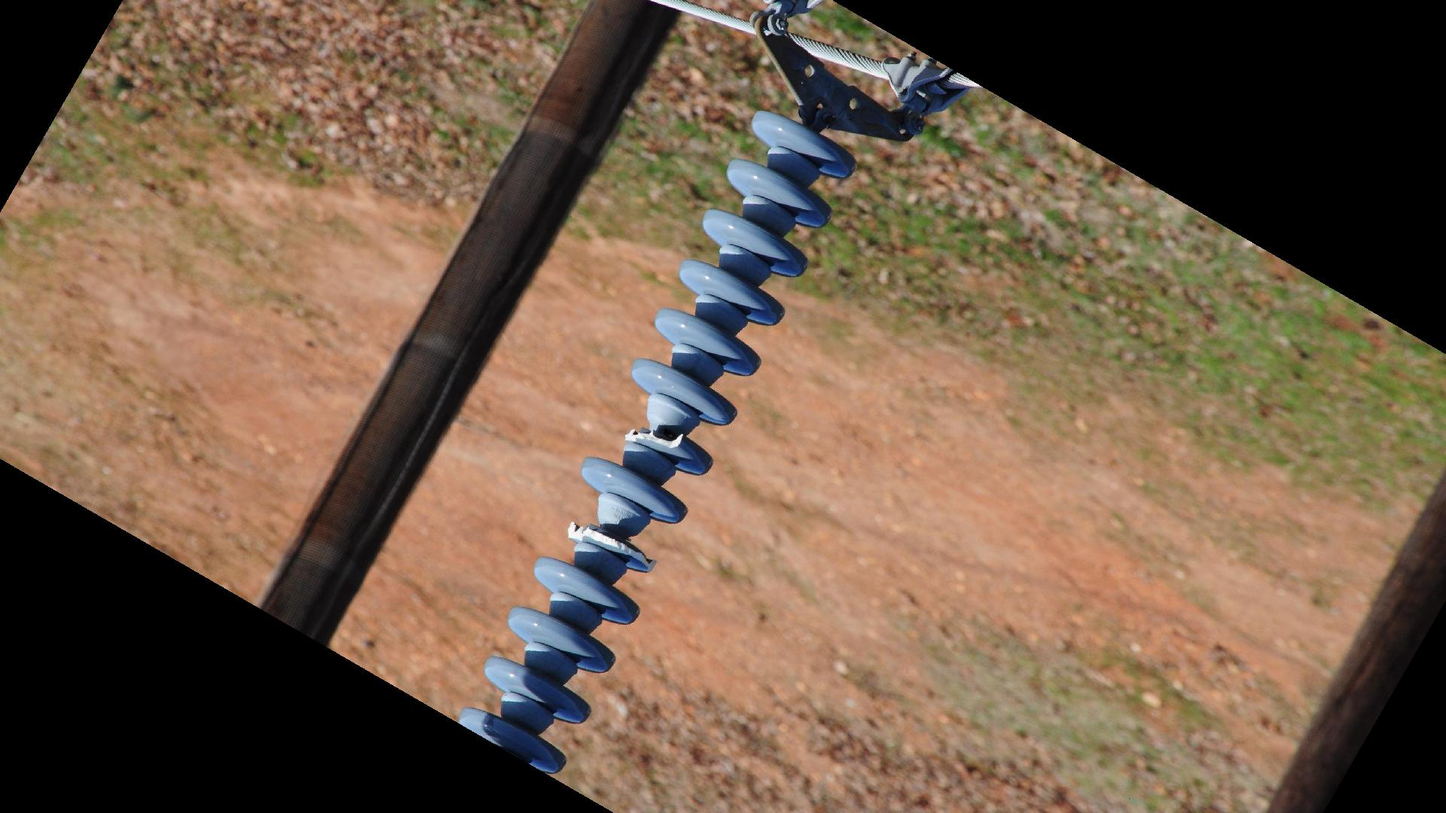insulator: (448, 104, 861, 779)
insulator_breakage: (562, 518, 660, 577), (618, 421, 694, 459)
